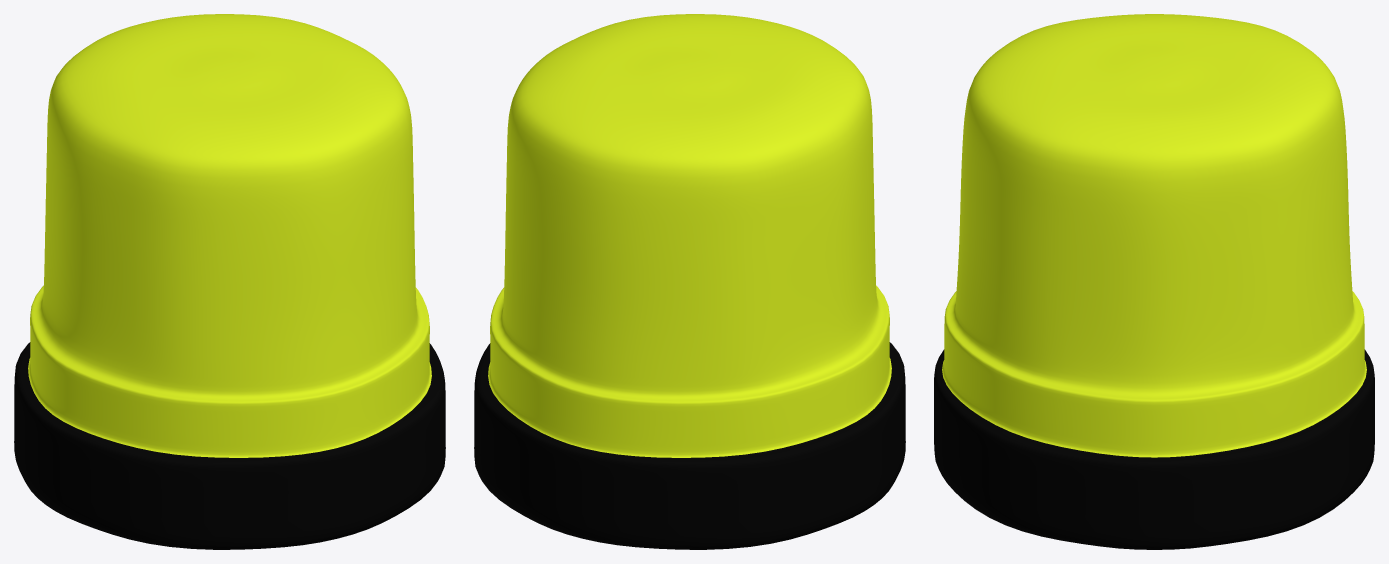
Rendered from alarm_yellow.glb.
3 views of the same model, side by side, from view 1: azimuth 30°, elevation 25°; view 2: azimuth 150°, elevation 25°; view 3: azimuth 270°, elevation 25° (orthographic).
Parts seen in each view (by area): view 1: Sphere; view 2: Sphere; view 3: Sphere.
Part boxes in pixels (bbox=[...]): Sphere: bbox=[14, 14, 445, 549]; Sphere: bbox=[474, 14, 905, 549]; Sphere: bbox=[934, 14, 1374, 549].
Bounding box in the file's own units: 2.01 × 2.03 × 2.03.
